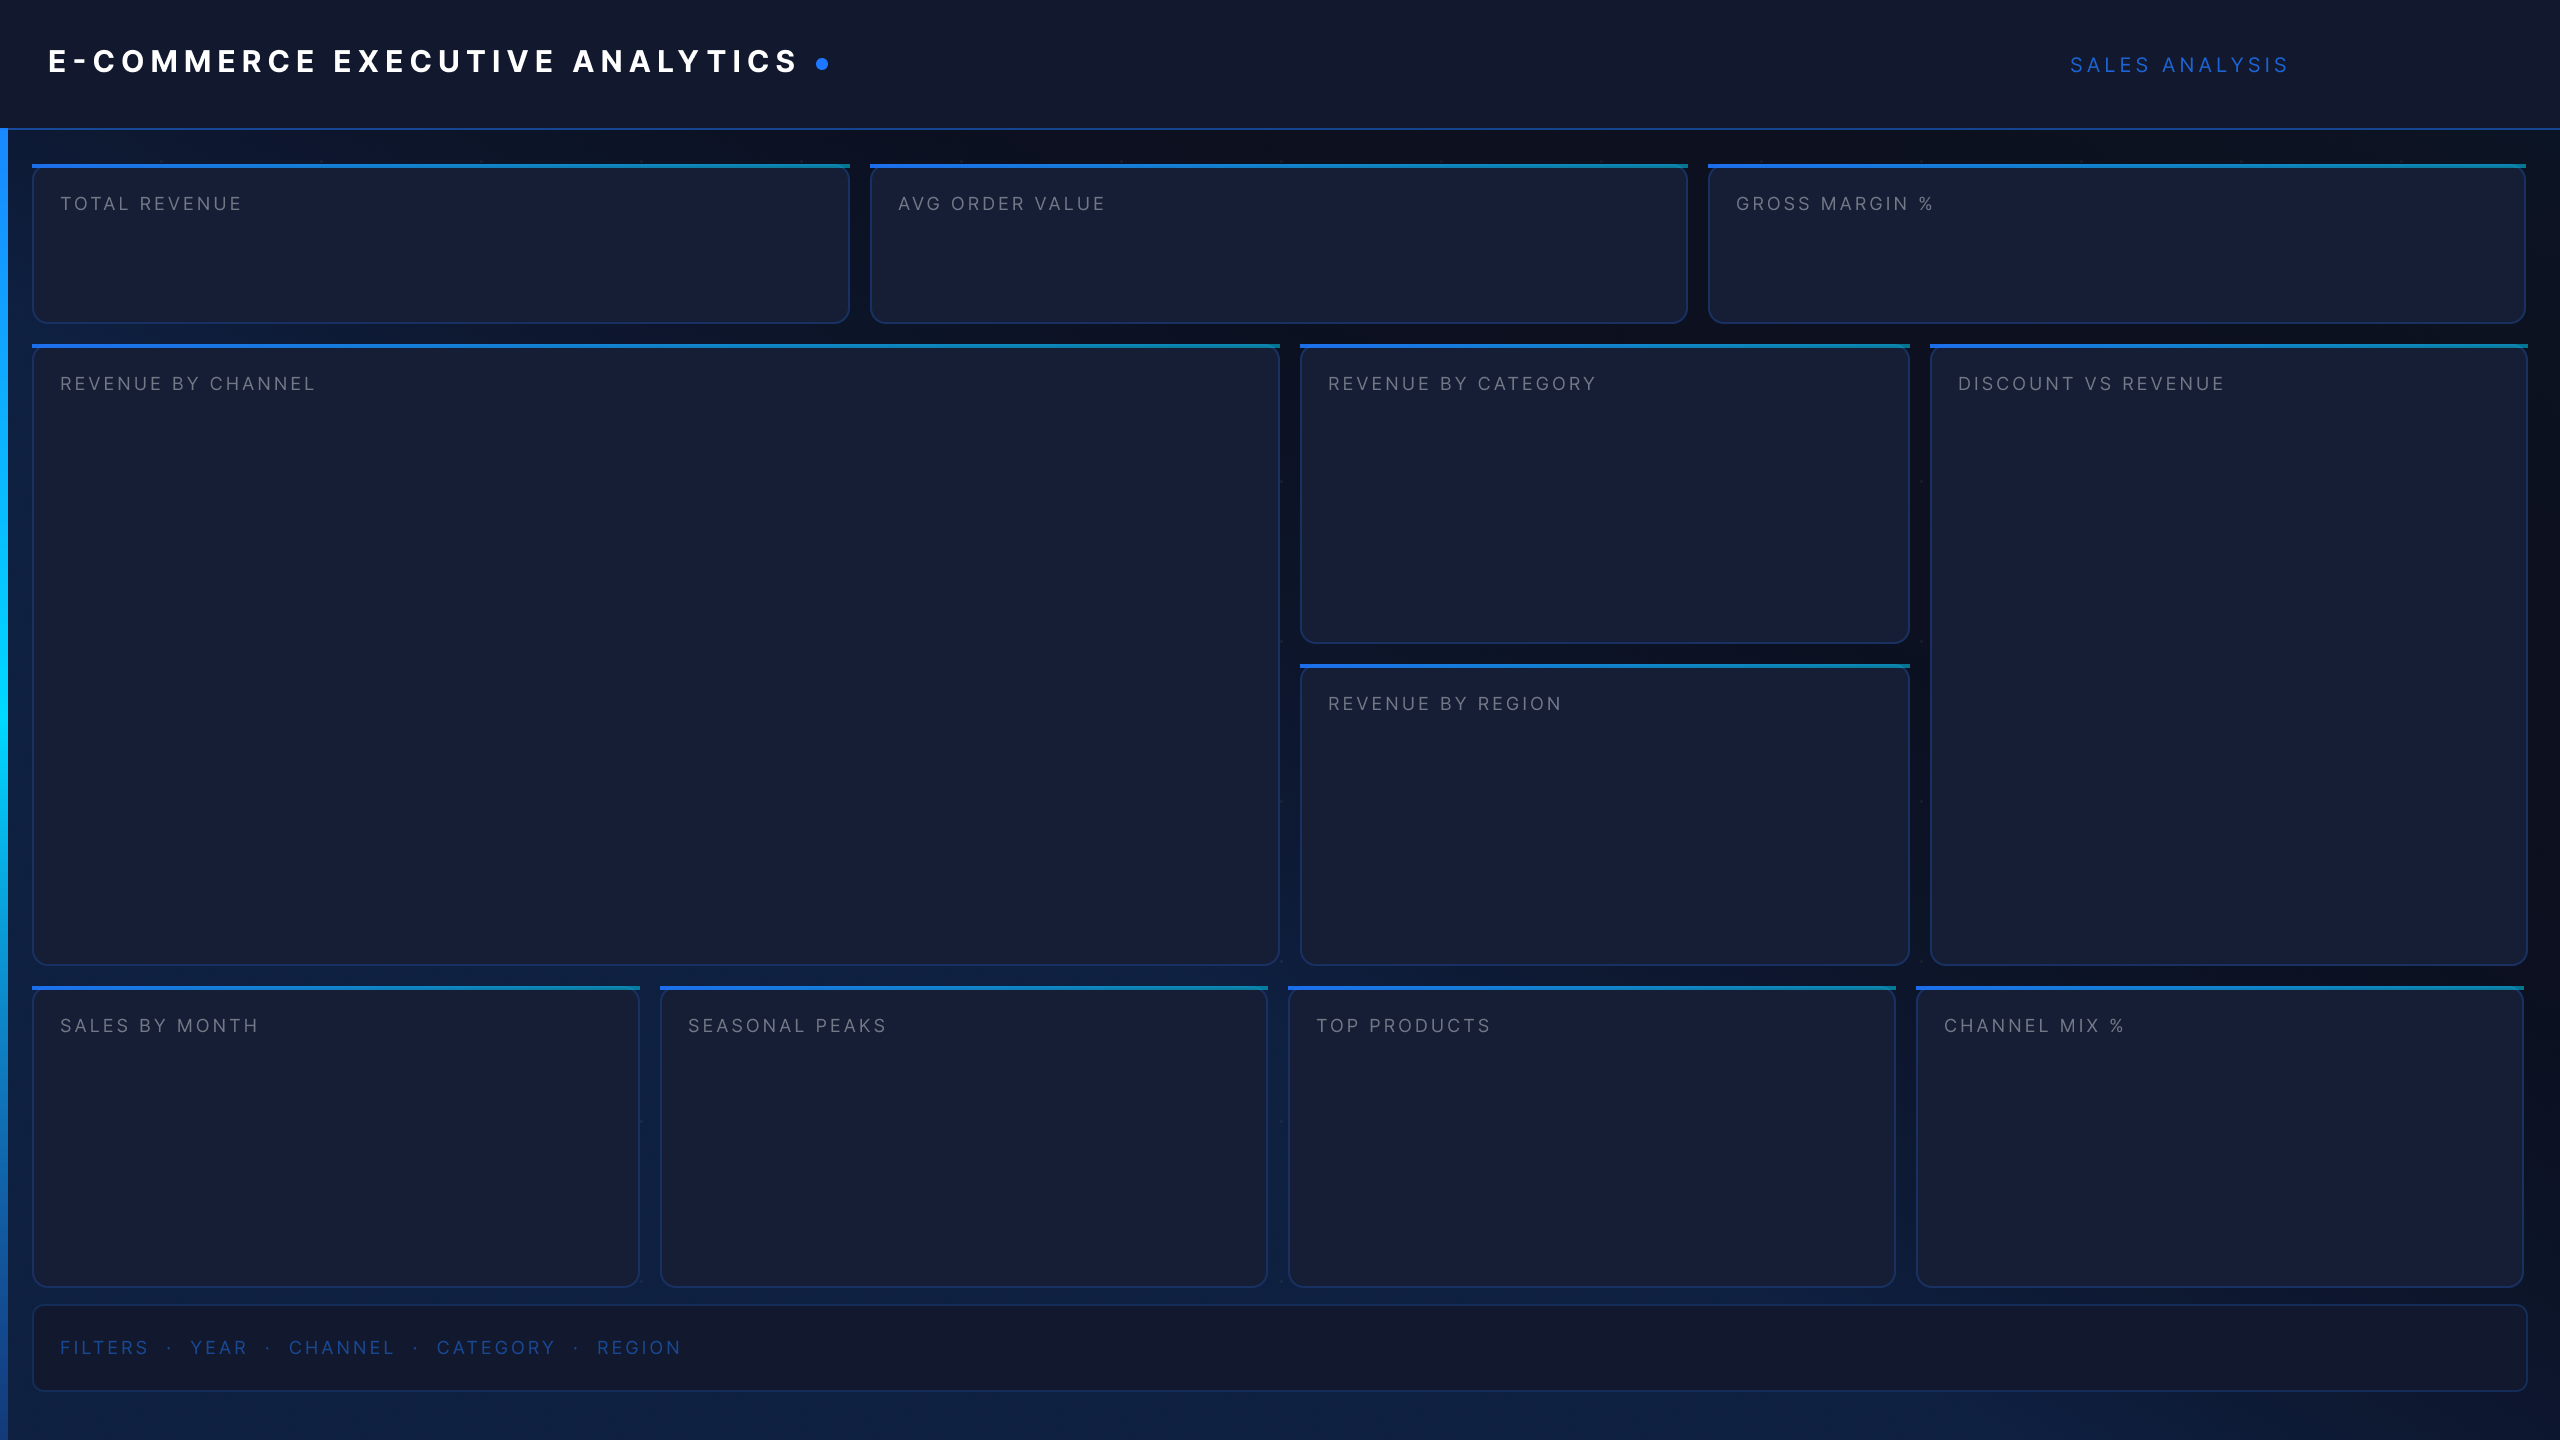

Layout of this report page (visuals, bound fields, positions):
{"tool":"powerbi","page":{"name":"Sales Analysis","canvas":[1280,720],"ordinal":1},"visuals":[{"type":"cardVisual","fields":{"Data":["_Measures.Total Revenue"]},"box":[18.5,81.1,408,80],"z":0},{"type":"cardVisual","fields":{"Data":["_Measures.Avg Order Value"]},"box":[434.5,81.1,408,80],"z":1000},{"type":"cardVisual","fields":{"Data":["_Measures.Gross Margin %"]},"box":[848,80,408,80],"z":2000},{"type":"clusteredBarChart","fields":{"Category":["dim_channel.ChannelName"],"Y":["_Measures.Total Revenue"]},"box":[16,184,624,312],"z":3000},{"type":"donutChart","fields":{"Category":["dim_product.Category"],"Y":["_Measures.Total Revenue"]},"box":[648,192,304,128],"z":4000},{"type":"donutChart","fields":{"Category":["dim_customer.Region"],"Y":["_Measures.Total Revenue"]},"box":[648,352,304,128],"z":5000},{"type":"treemap","fields":{"Group":["dim_channel.ChannelName"],"Values":["Sum(fact_orders.DiscountPct)"]},"box":[984,216,296,280],"z":6000},{"type":"lineChart","fields":{"Category":["dim_date.MonthLabel"],"Y":["_Measures.Total Revenue"]},"box":[0,512,320,136],"z":7000},{"type":"hundredPercentStackedBarChart","fields":{"Category":["dim_date.IsSeasonal"],"Y":["_Measures.Total Revenue","_Measures.Total Refunds"]},"box":[312,512,320,136],"z":8000}]}

Visuals, with their boxes in screenshot pixels (x1, y1, x2, y2), scaled from the page's 1280x720 canvas onto the 2560x1440 screenshot:
cardVisual - _Measures.Total Revenue: left=37, top=162, right=853, bottom=322
cardVisual - _Measures.Avg Order Value: left=869, top=162, right=1685, bottom=322
cardVisual - _Measures.Gross Margin %: left=1696, top=160, right=2512, bottom=320
clusteredBarChart - dim_channel.ChannelName x _Measures.Total Revenue: left=32, top=368, right=1280, bottom=992
donutChart - dim_product.Category x _Measures.Total Revenue: left=1296, top=384, right=1904, bottom=640
donutChart - dim_customer.Region x _Measures.Total Revenue: left=1296, top=704, right=1904, bottom=960
treemap - dim_channel.ChannelName x Sum(fact_orders.DiscountPct): left=1968, top=432, right=2559, bottom=992
lineChart - dim_date.MonthLabel x _Measures.Total Revenue: left=0, top=1024, right=640, bottom=1296
hundredPercentStackedBarChart - dim_date.IsSeasonal x _Measures.Total Revenue: left=624, top=1024, right=1264, bottom=1296
